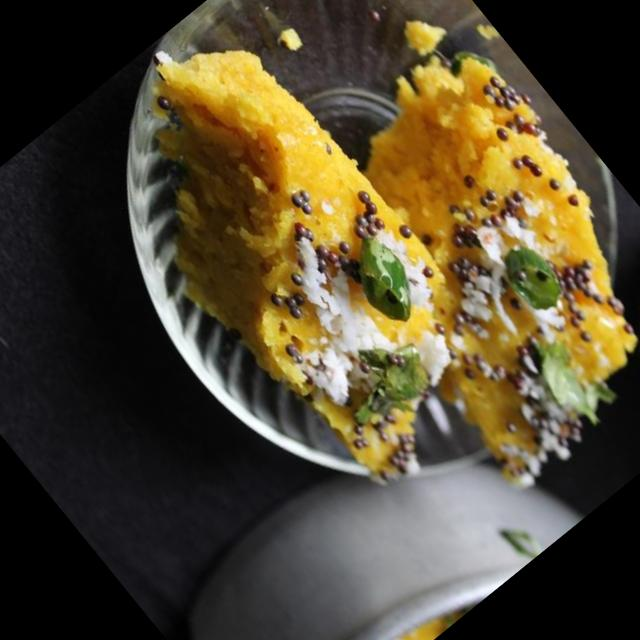dhokla: (99, 0, 640, 554)
